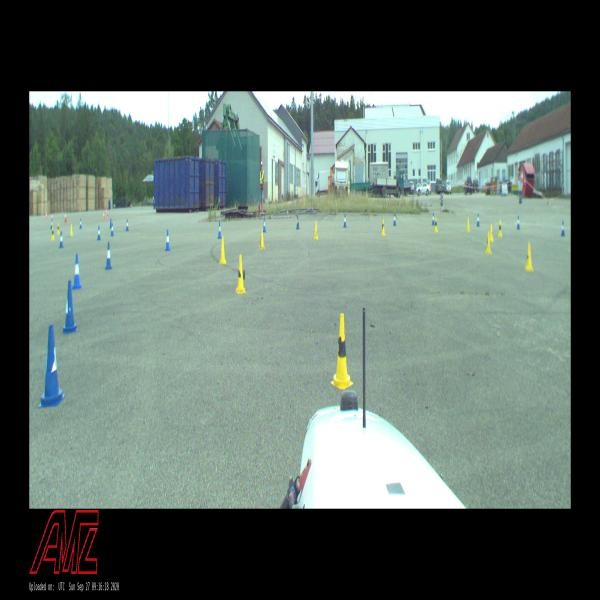blue_cone: (39, 324, 65, 407), (62, 280, 78, 332), (72, 255, 82, 288), (105, 242, 112, 269), (165, 230, 170, 251), (59, 231, 64, 248), (561, 220, 565, 237), (218, 222, 222, 238), (516, 214, 520, 230), (296, 215, 300, 230), (343, 214, 347, 228), (97, 226, 101, 240), (476, 214, 480, 226), (263, 217, 266, 232), (393, 213, 396, 226), (111, 223, 114, 236), (79, 218, 82, 229), (50, 219, 53, 230), (109, 218, 112, 228), (126, 219, 128, 231), (432, 213, 434, 224)
orange_cone: (64, 212, 67, 223), (51, 214, 53, 221), (103, 212, 105, 218), (46, 212, 47, 218)
yellow_cone: (331, 314, 353, 389), (235, 255, 246, 293), (525, 244, 533, 272), (219, 236, 226, 264), (259, 226, 265, 249), (486, 232, 491, 253), (489, 224, 493, 243), (314, 221, 318, 239), (381, 219, 385, 236), (498, 220, 502, 236), (434, 217, 438, 232), (466, 217, 470, 232), (57, 222, 60, 235), (70, 224, 73, 236), (52, 226, 54, 240)
